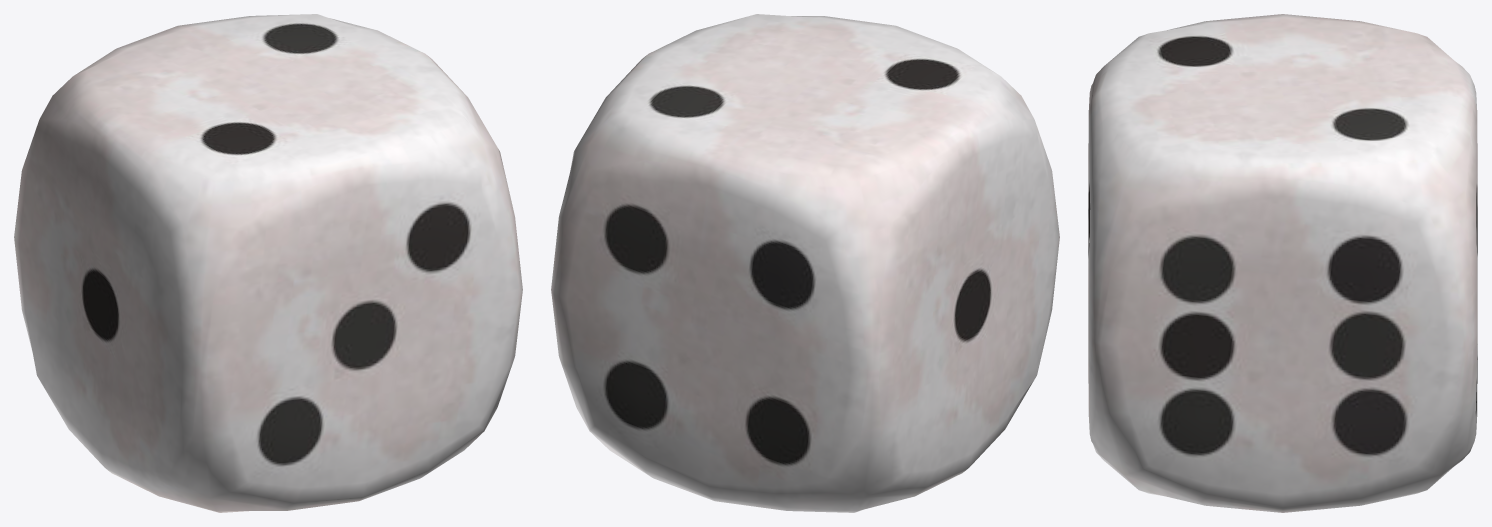
3 views of the same model, side by side, from view 1: azimuth 30°, elevation 25°; view 2: azimuth 150°, elevation 25°; view 3: azimuth 270°, elevation 25° (orthographic).
Visible parts, largest first — view 1: Cube; view 2: Cube; view 3: Cube.
Boxes of the visible parts, x1,y1,x2,y2 form: Cube: [14, 14, 522, 512]; Cube: [551, 14, 1059, 512]; Cube: [1088, 14, 1477, 512].
Size of the model in its own units: 179 by 179 by 179.
1 material, 1 textured.
